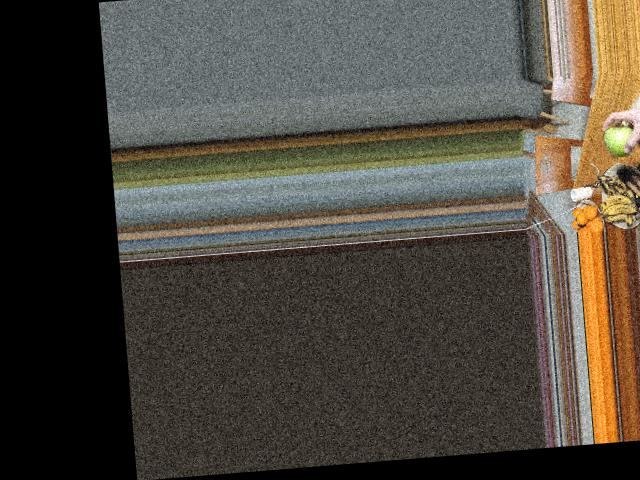apple: (601, 124, 640, 156)
